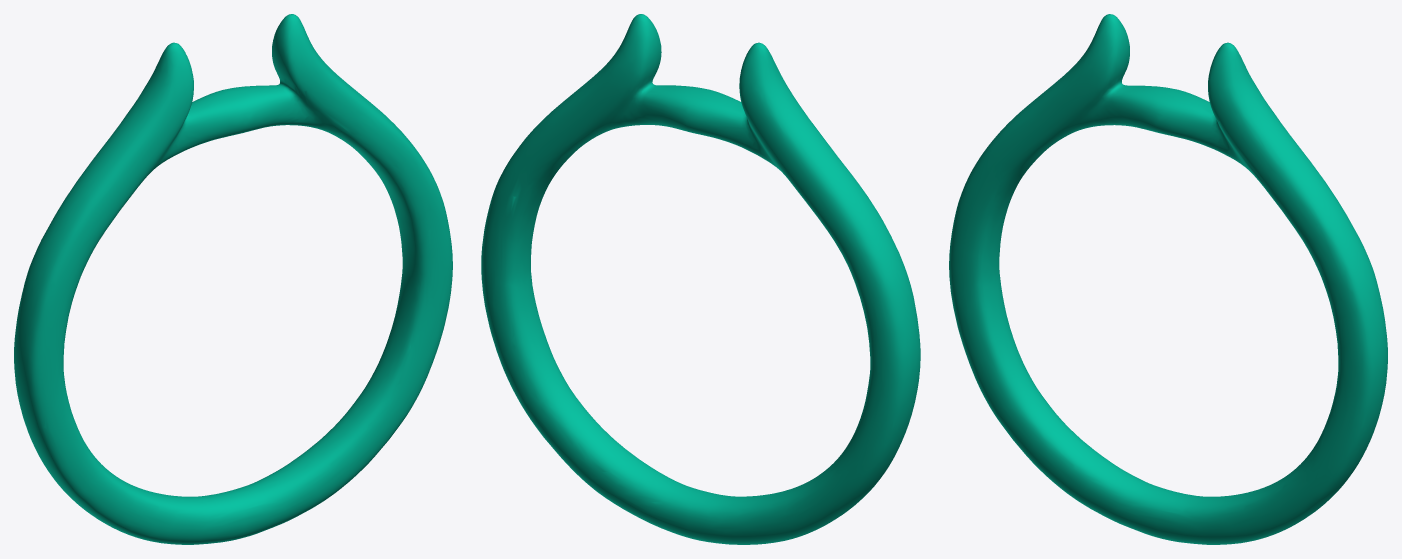
Rendered from Shank.glb.
3 renders of one model, left to right at view 1: azimuth 30°, elevation 25°; view 2: azimuth 150°, elevation 25°; view 3: azimuth 330°, elevation 25°, orthographic.
Parts seen in each view (by area): view 1: /GSMOD388300-6 PRONG_shank_IJ.3dm; view 2: /GSMOD388300-6 PRONG_shank_IJ.3dm; view 3: /GSMOD388300-6 PRONG_shank_IJ.3dm.
Part boxes in pixels (left/top/right/bottom): /GSMOD388300-6 PRONG_shank_IJ.3dm: left=14, top=14, right=452, bottom=544; /GSMOD388300-6 PRONG_shank_IJ.3dm: left=481, top=14, right=920, bottom=544; /GSMOD388300-6 PRONG_shank_IJ.3dm: left=949, top=14, right=1387, bottom=544.
Bounding box in the file's own units: 20.78 × 23.6 × 2.27.
